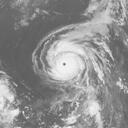cyclone: (30, 25, 105, 90)
